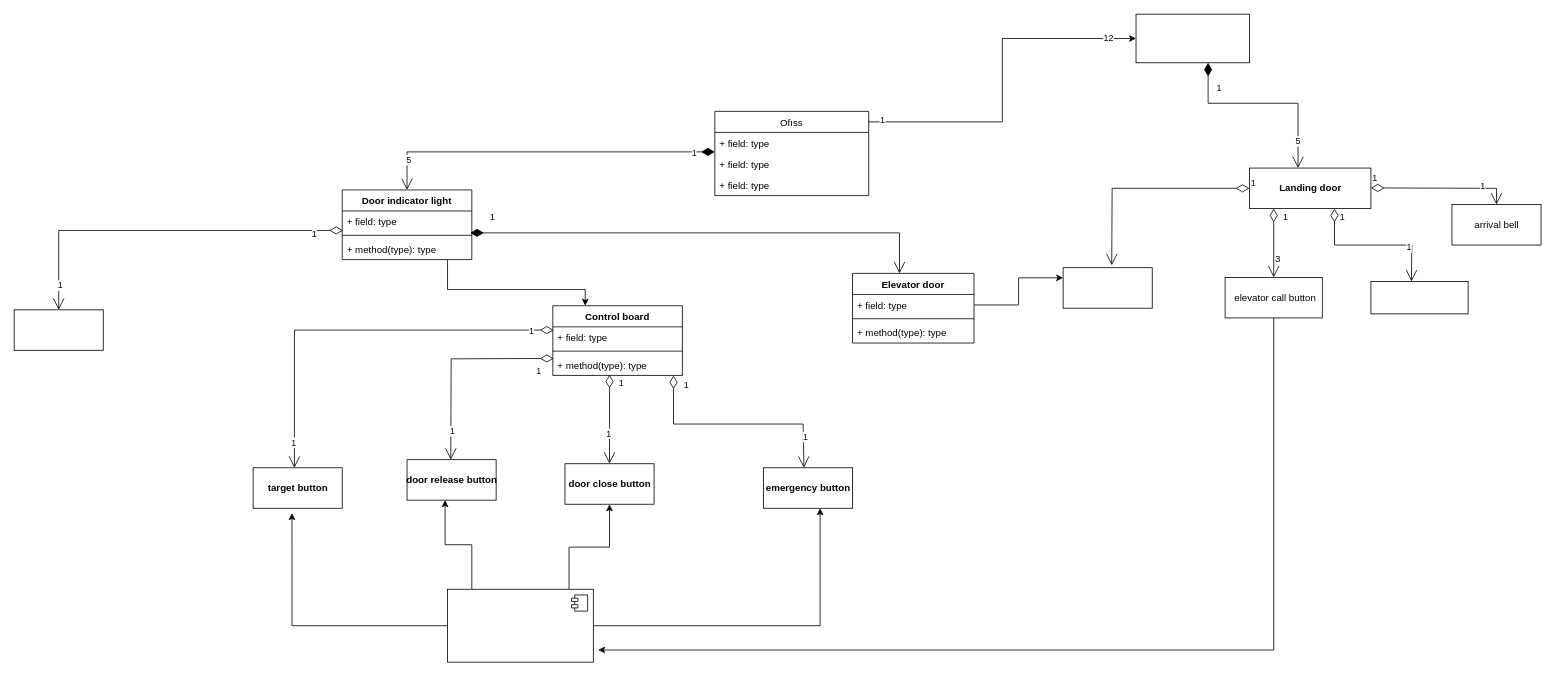
Some shapes in this 1555 by 676 pixel diagram are drawn without their labels. The centre of each missing label's shape, as x and y in pixels:
"button" goes at [520,625].
"door" goes at [1107,287].
"door front light" goes at [58,329].
"Floor" goes at [1192,38].
"signal light" goes at [1419,297].
